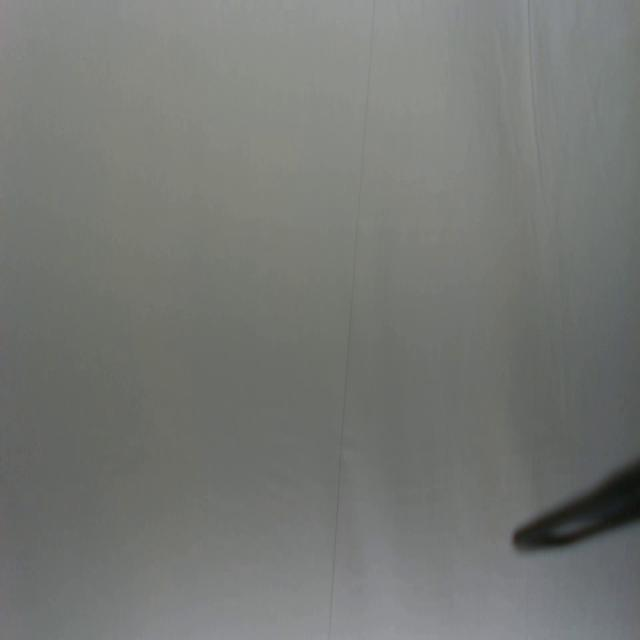crease: (327, 1, 376, 640), (525, 0, 547, 198)
